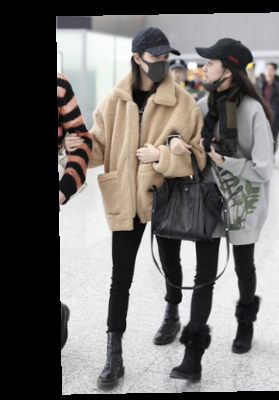mask_weared_incorrect: (196, 36, 263, 98)
